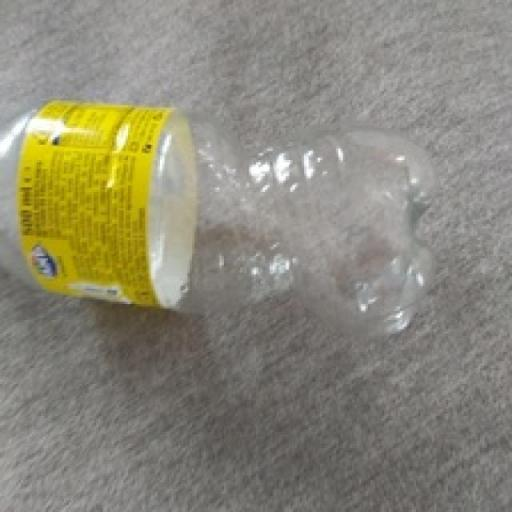plastic: (0, 101, 439, 336)
